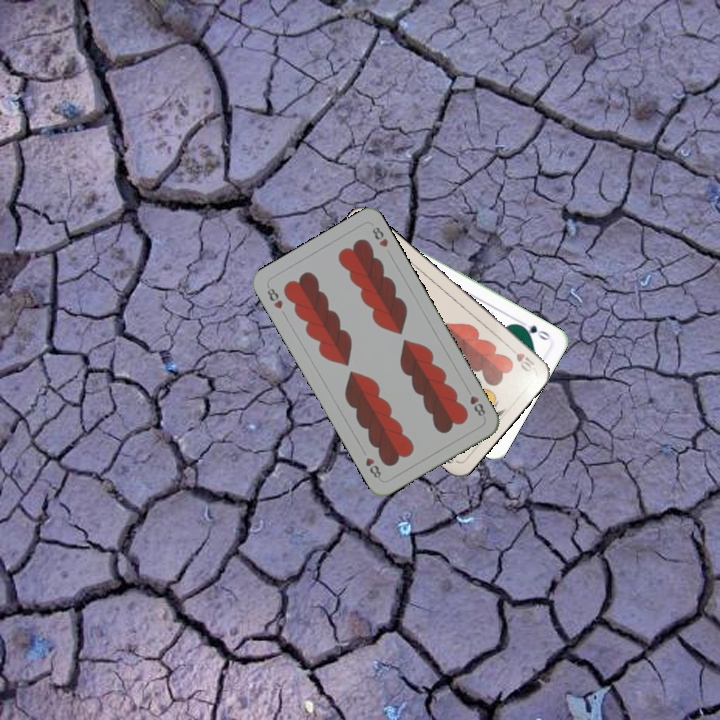GO: (515, 320, 553, 343)
H10: (504, 341, 537, 375)
H8: (462, 384, 488, 419), (263, 282, 285, 312)
